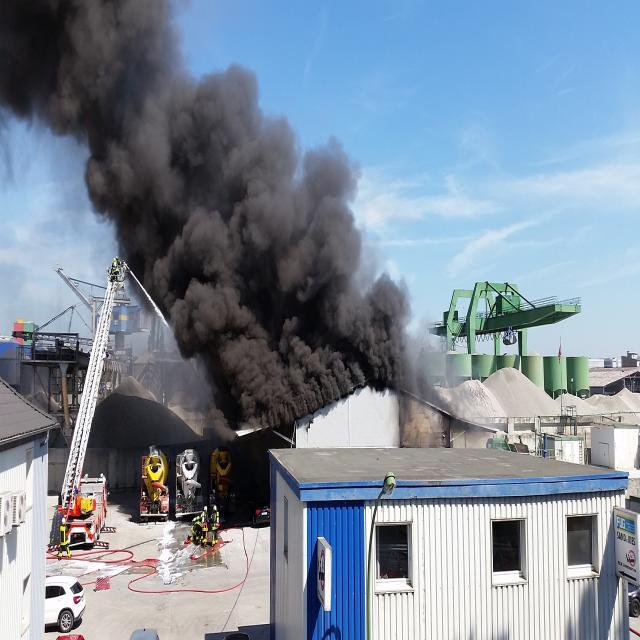Smoke: (0, 0, 456, 430)
